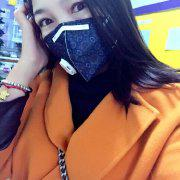OK: (34, 3, 113, 82)
